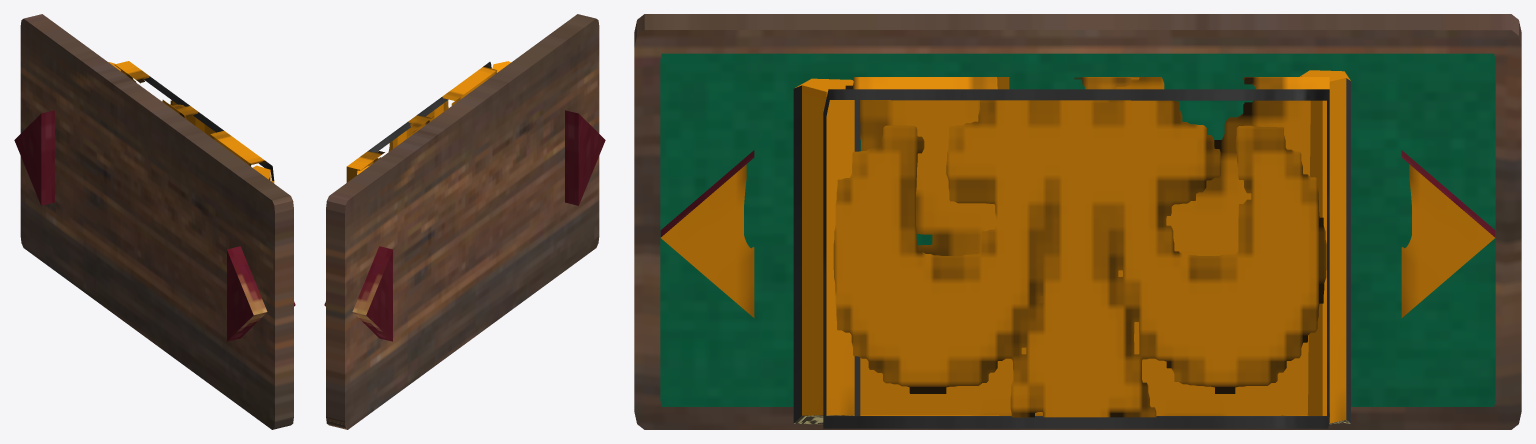
The model's file is bet panel.fbx.
The picture shows the model from 3 angles, left to right: view 1: azimuth 30°, elevation 25°; view 2: azimuth 150°, elevation 25°; view 3: azimuth 270°, elevation 25°; orthographic projection. The views are drawn at different scales.
Parts seen in each view (by area): view 1: Cube.003; view 2: Cube.003; view 3: Cube.003.
Boxes of the visible parts, x1=… form: Cube.003: x1=14, y1=14, x2=295, y2=429; Cube.003: x1=324, y1=14, x2=605, y2=429; Cube.003: x1=634, y1=14, x2=1521, y2=429.
Bounding box in the file's own units: 82.52 × 269 × 540.
7 materials, 7 textured.
